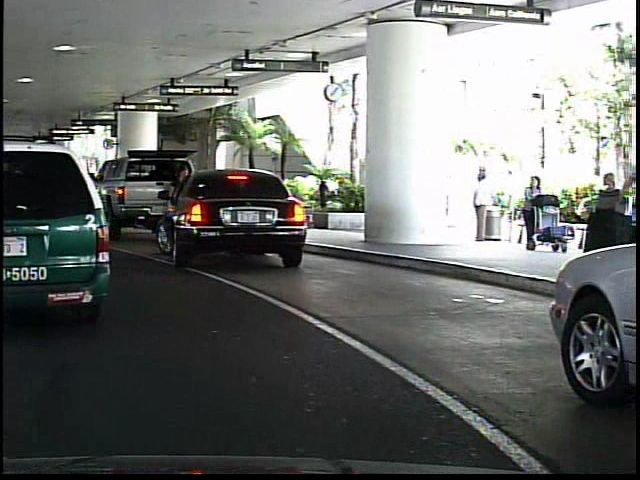person: (514, 172, 545, 259)
